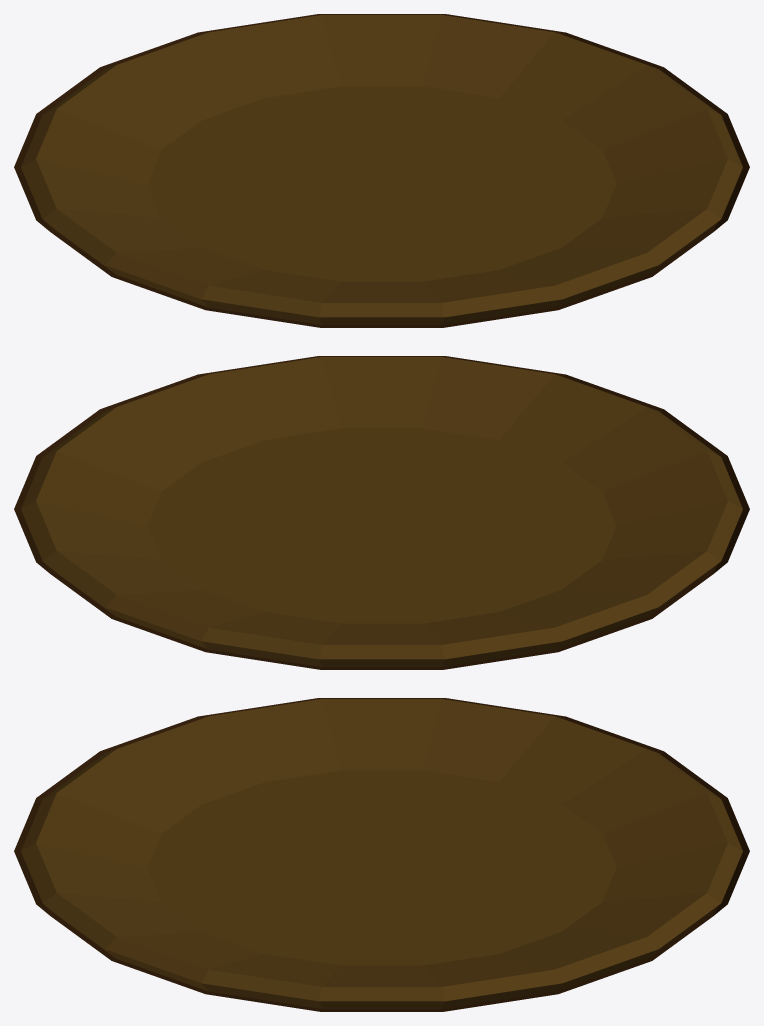
Rendered from Plate_(Outlined)v002.fbx.
The picture shows the model from 3 angles, top to bottom: view 1: azimuth 30°, elevation 25°; view 2: azimuth 150°, elevation 25°; view 3: azimuth 270°, elevation 25°; orthographic projection.
Parts seen in each view (by area): view 1: Cylinder; view 2: Cylinder; view 3: Cylinder.
Boxes of the visible parts, x1,y1,x2,y2 form: Cylinder: (14, 14, 749, 327); Cylinder: (14, 356, 749, 669); Cylinder: (14, 698, 749, 1011).
Bounding box in the file's own units: 209 × 19.99 × 213.
